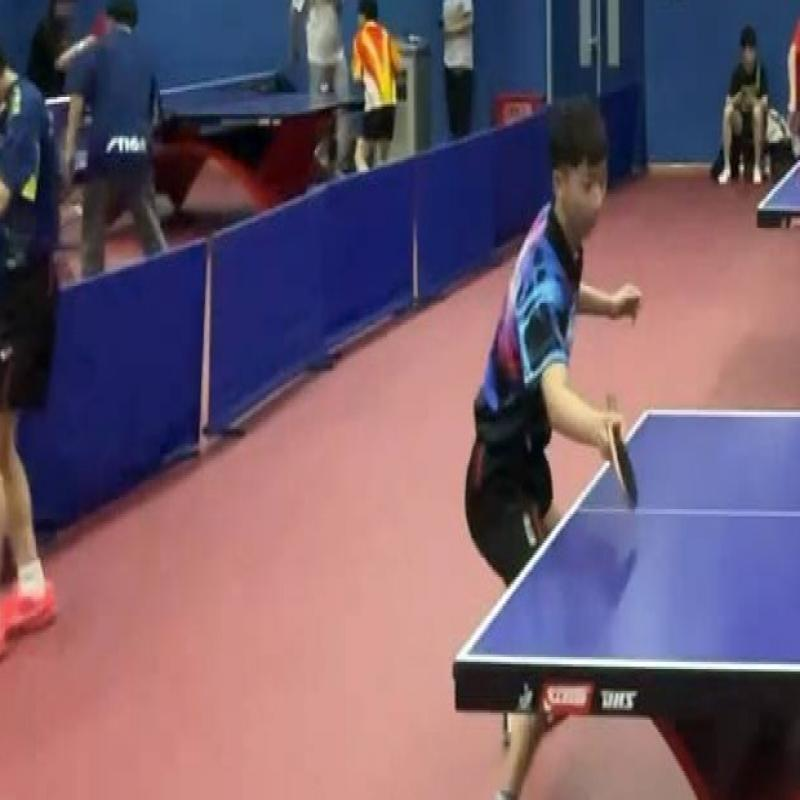bats: (591, 388, 646, 526)
